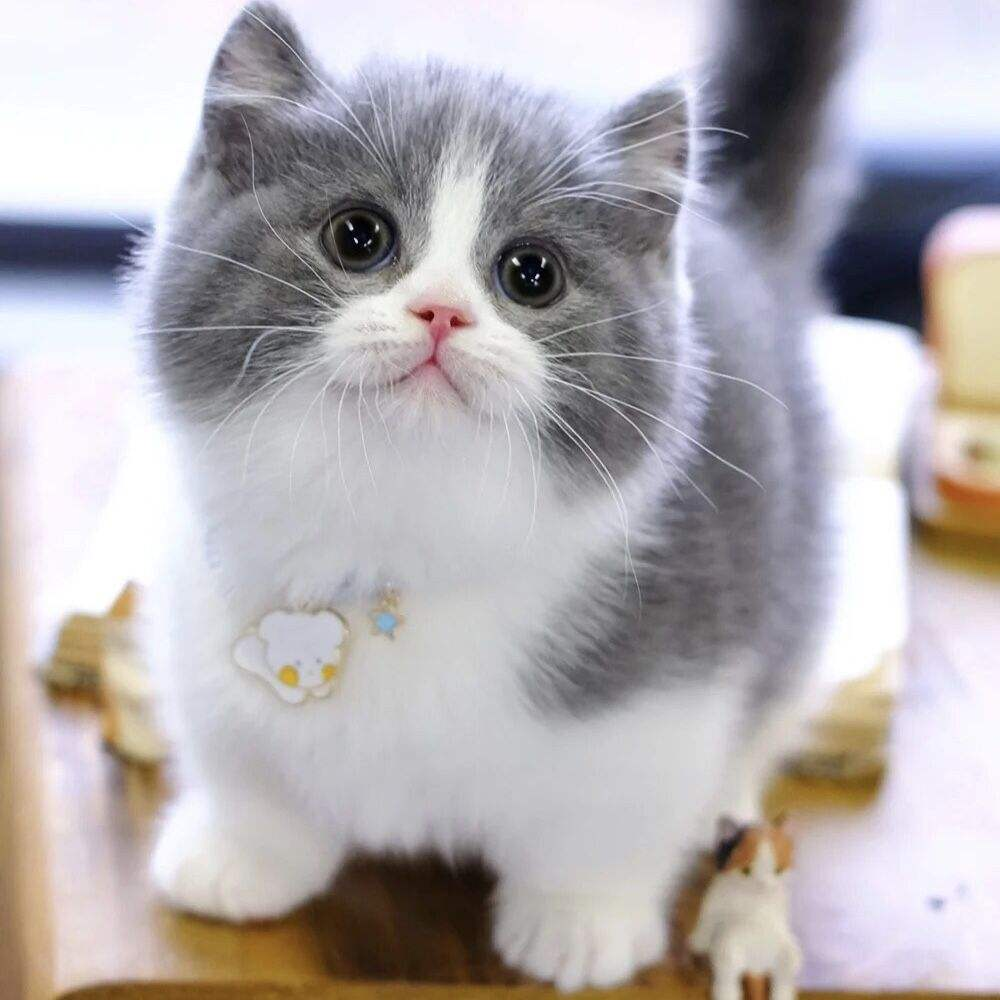cat: (124, 1, 865, 992)
